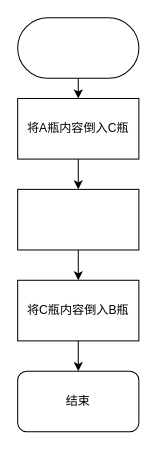
Some shapes in this 157 by 449 pixel diagram are drawn without their labels. The centre of each missing label's shape, as x and y in pixels:
将B瓶内容倒入A瓶: (78,219)
开始: (78,47)
